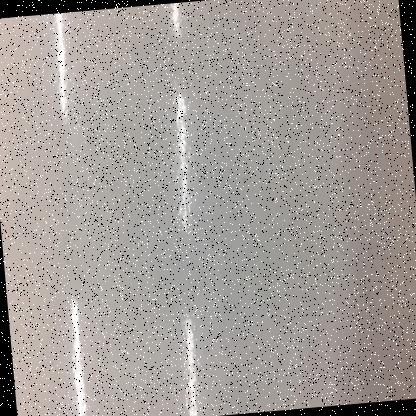Nocrack: (17, 30, 414, 410)
